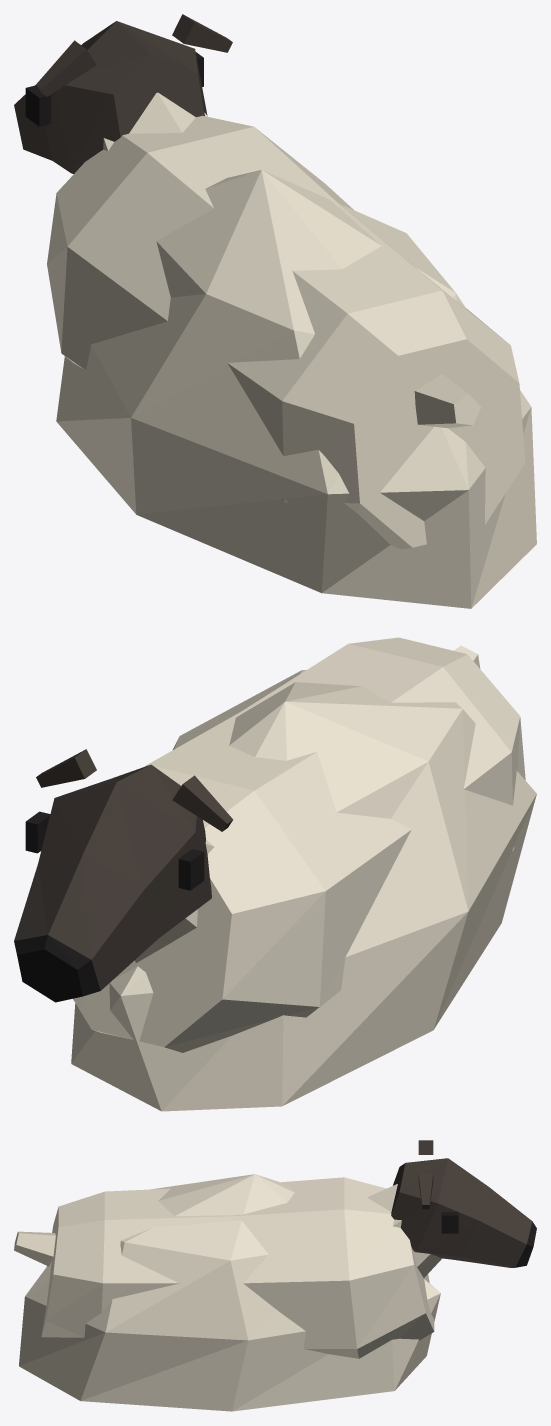
File: animal_sheep.obj
3 views of the same model, one above another, from view 1: azimuth 30°, elevation 25°; view 2: azimuth 150°, elevation 25°; view 3: azimuth 270°, elevation 25° (orthographic). The views are drawn at different scales.
Parts seen in each view (by area): view 1: animal_sheep; view 2: animal_sheep; view 3: animal_sheep.
Part boxes in pixels (box(x1,y1,x2,y2)): animal_sheep: box(14, 14, 536, 608); animal_sheep: box(14, 637, 536, 1111); animal_sheep: box(14, 1140, 536, 1411).
Bounding box in the file's own units: 0.475 × 0.5212 × 1.07.
